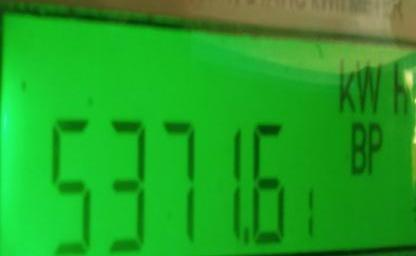.: (332, 57, 416, 114)
2: (228, 120, 244, 243), (303, 185, 317, 241)
4: (108, 117, 154, 251)
6: (45, 116, 93, 256)
7: (249, 122, 288, 246)
8: (157, 119, 200, 250)
